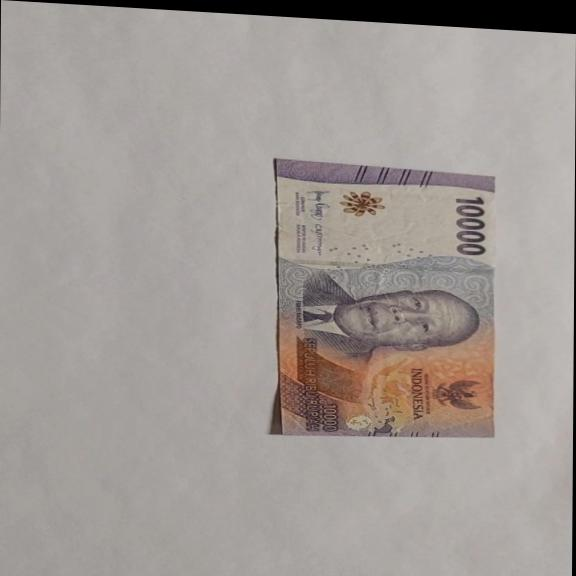Kertas: (270, 158, 499, 449), (453, 194, 488, 257)
